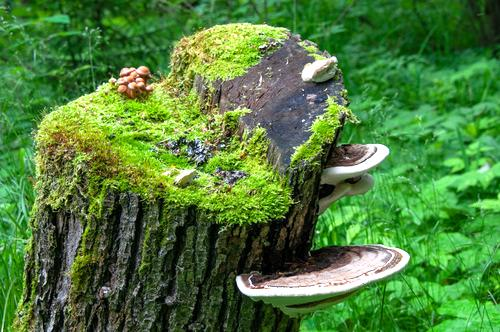Ganoderma - Fruit Body: (230, 238, 415, 306), (307, 133, 395, 229)
